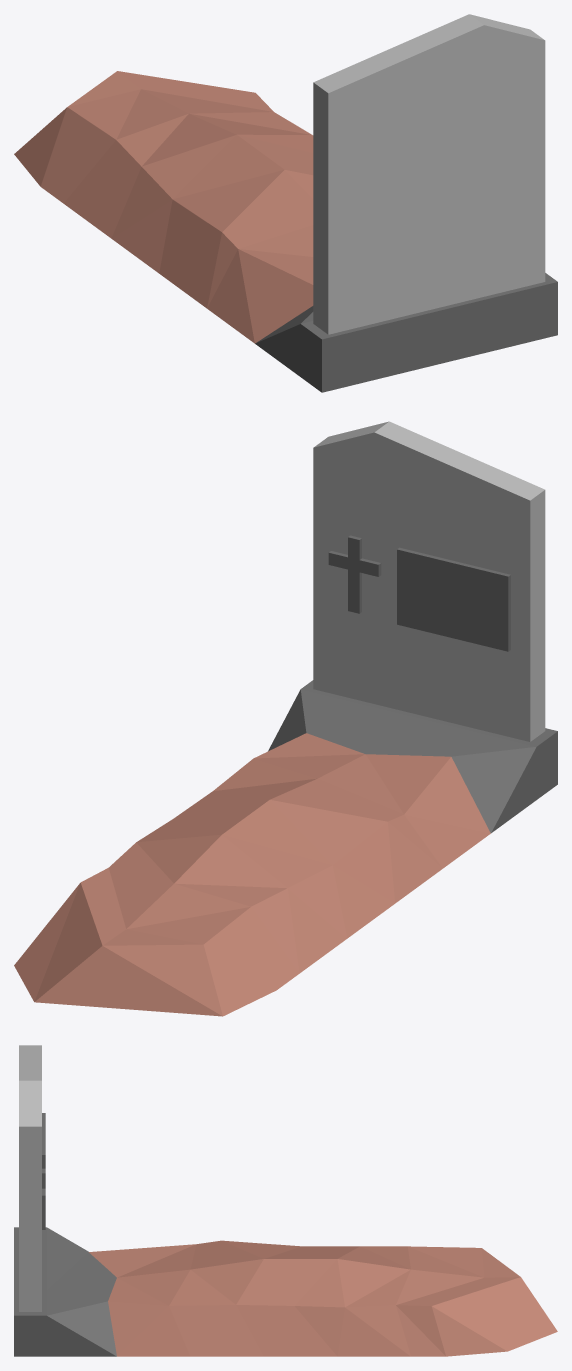
The model's file is Grave1.fbx.
3 views of the same model, one above another, from view 1: azimuth 30°, elevation 25°; view 2: azimuth 150°, elevation 25°; view 3: azimuth 270°, elevation 25° (orthographic). The views are drawn at different scales.
Visible parts, largest first — view 1: Grave1; view 2: Grave1; view 3: Grave1.
Boxes of the visible parts, <box> form: Grave1: <box>14,14,557,392</box>; Grave1: <box>14,421,557,1016</box>; Grave1: <box>14,1045,557,1356</box>.
Size of the model in its own units: 0.6744 by 1.75 by 0.8874.
